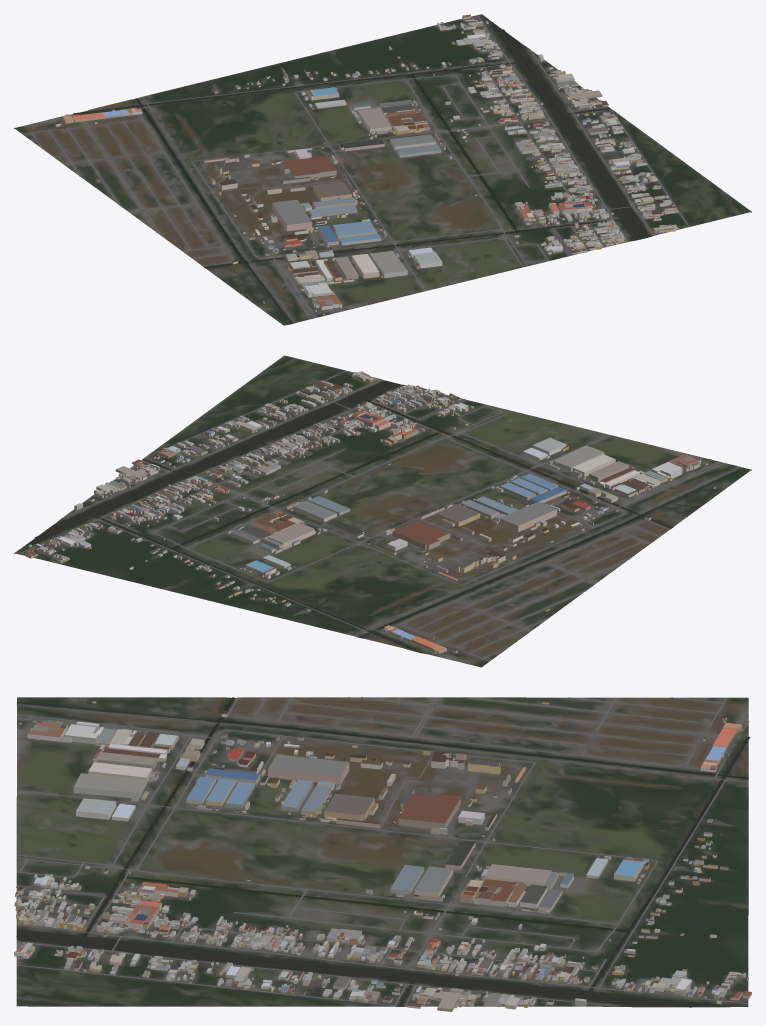
3 views of the same model, one above another, from view 1: azimuth 30°, elevation 25°; view 2: azimuth 150°, elevation 25°; view 3: azimuth 270°, elevation 25° (orthographic). The views are drawn at different scales.
Visible parts, largest first — view 1: ground, buildings, roads, water; view 2: ground, buildings, roads, water; view 3: ground, buildings, roads, water.
Part boxes in pixels (x1,y1,x2,y2): ground: (14, 14, 751, 325); buildings: (55, 14, 679, 315); roads: (22, 15, 689, 322); water: (73, 20, 650, 323); ground: (14, 355, 751, 667); buildings: (25, 371, 716, 653); roads: (18, 370, 740, 661); water: (23, 380, 744, 653); ground: (16, 697, 748, 1007); buildings: (14, 701, 751, 1011); roads: (16, 697, 749, 1006); water: (16, 697, 749, 1007).
Size of the model in its own units: 1425 by 23 by 1412.
